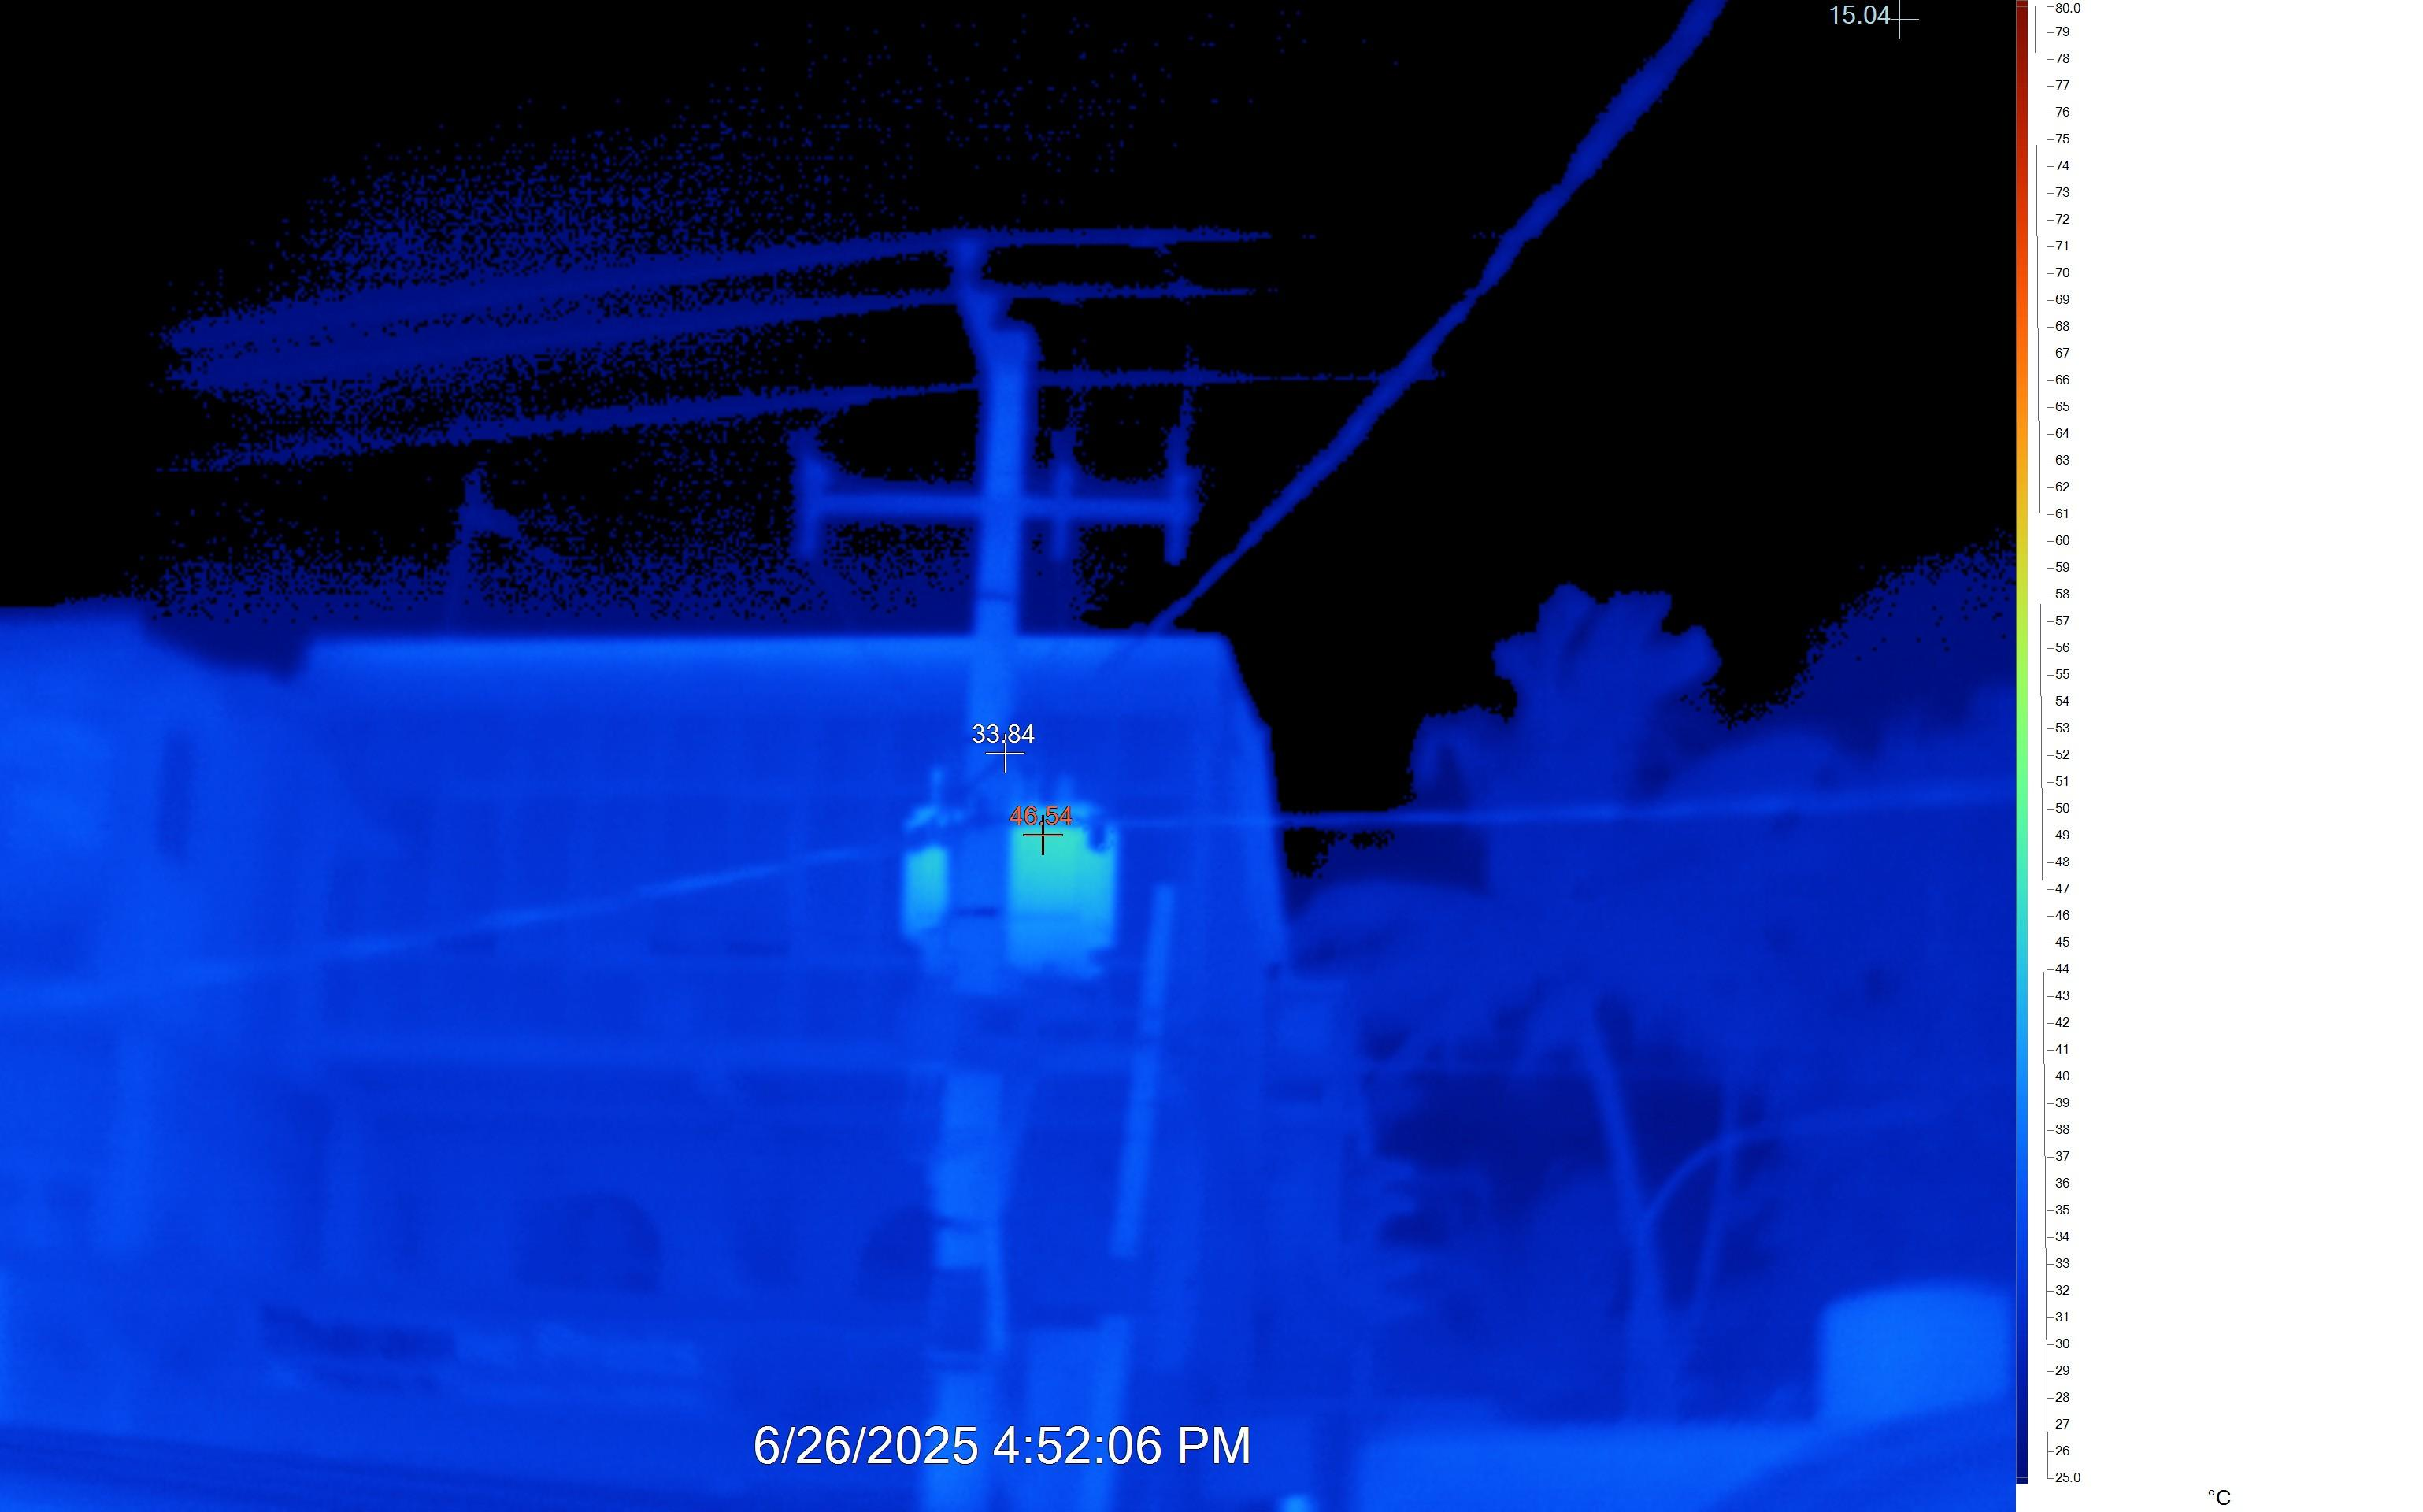normal: (906, 775, 1129, 988)
